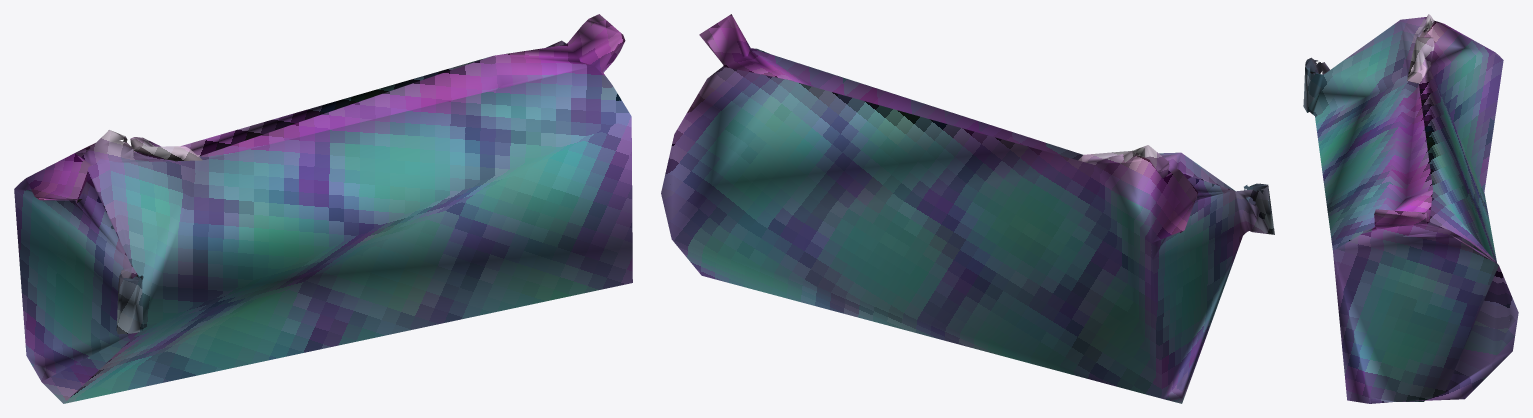
Rendered from Big_Dot_Aqua_Pencil_Case-low.glb.
3 renders of one model, left to right at view 1: azimuth 30°, elevation 25°; view 2: azimuth 150°, elevation 25°; view 3: azimuth 270°, elevation 25°, orthographic. The views are drawn at different scales.
Parts seen in each view (by area): view 1: Big_Dot_Aqua_Pencil_Case; view 2: Big_Dot_Aqua_Pencil_Case; view 3: Big_Dot_Aqua_Pencil_Case.
Boxes of the visible parts, <box> form: Big_Dot_Aqua_Pencil_Case: <box>14,14,632,403</box>; Big_Dot_Aqua_Pencil_Case: <box>661,14,1274,403</box>; Big_Dot_Aqua_Pencil_Case: <box>1303,14,1518,403</box>.
Bounding box in the file's own units: 0.2072 × 0.0957 × 0.0838.
1 material, 1 textured.
